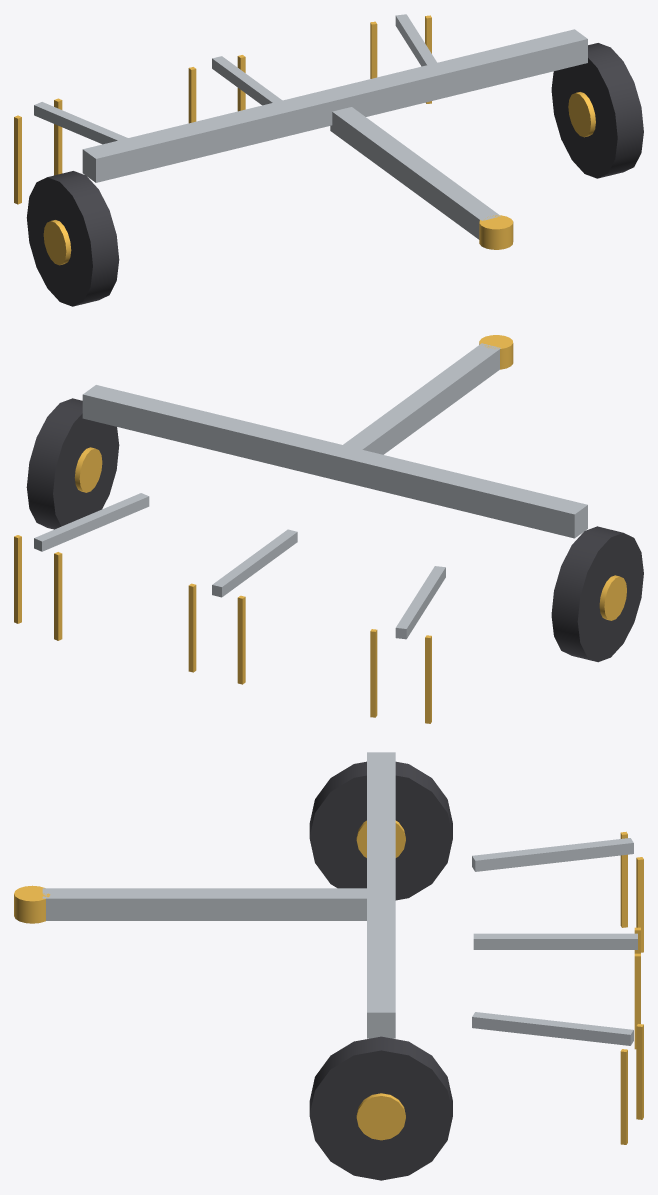
Rendered from m3_sample.glb.
3 views of the same model, one above another, from view 1: azimuth 30°, elevation 25°; view 2: azimuth 150°, elevation 25°; view 3: azimuth 270°, elevation 25° (orthographic). The views are drawn at different scales.
Visible parts, largest first — view 1: Beam, Tyre L, Tyre R, Drawbar, Arm 1 Bar, Arm 2 Bar, Hitch, Hub R, Hub L, Arm 3 Bar, Tine 1a, Tine 1b (+2 smaller); view 2: Beam, Tyre L, Tyre R, Drawbar, Arm 3 Bar, Arm 2 Bar, Arm 1 Bar, Hub L, Hub R, Tine 2b, Tine 2a, Tine 3a (+4 smaller); view 3: Tyre R, Tyre L, Drawbar, Beam, Arm 2 Bar, Arm 3 Bar, Arm 1 Bar, Hub R, Hitch, Tine 3a, Tine 3b, Tine 1b (+2 smaller).
Part boxes in pixels (x1=…): Beam: x1=82, y1=29, x2=587, y2=182; Tyre L: x1=26, y1=171, x2=119, y2=306; Tyre R: x1=551, y1=43, x2=643, y2=178; Drawbar: x1=330, y1=107, x2=500, y2=239; Arm 1 Bar: x1=34, y1=102, x2=127, y2=144; Arm 2 Bar: x1=212, y1=56, x2=282, y2=105; Hitch: x1=479, y1=215, x2=513, y2=249; Hub R: x1=568, y1=92, x2=595, y2=137; Hub L: x1=43, y1=220, x2=71, y2=265; Arm 3 Bar: x1=395, y1=14, x2=436, y2=66; Tine 1a: x1=14, y1=115, x2=21, y2=204; Tine 1b: x1=54, y1=98, x2=62, y2=175; Beam: x1=82, y1=385, x2=587, y2=538; Tyre L: x1=551, y1=526, x2=643, y2=662; Tyre R: x1=26, y1=398, x2=119, y2=529; Drawbar: x1=343, y1=343, x2=500, y2=454; Arm 3 Bar: x1=34, y1=493, x2=149, y2=551; Arm 2 Bar: x1=212, y1=529, x2=297, y2=597; Arm 1 Bar: x1=395, y1=566, x2=445, y2=639; Hub L: x1=599, y1=575, x2=626, y2=620; Hub R: x1=74, y1=447, x2=102, y2=492; Tine 2b: x1=188, y1=583, x2=196, y2=672; Tine 2a: x1=237, y1=595, x2=245, y2=684; Tine 3a: x1=54, y1=552, x2=62, y2=640; Tyre R: x1=309, y1=1036, x2=452, y2=1180; Tyre L: x1=309, y1=761, x2=452, y2=900; Drawbar: x1=42, y1=888, x2=366, y2=920; Beam: x1=367, y1=752, x2=395, y2=1038; Arm 2 Bar: x1=473, y1=933, x2=637, y2=949; Arm 3 Bar: x1=472, y1=1012, x2=633, y2=1045; Arm 1 Bar: x1=472, y1=838, x2=633, y2=871; Hub R: x1=356, y1=1093, x2=405, y2=1140; Hitch: x1=14, y1=885, x2=50, y2=923; Tine 3a: x1=636, y1=1024, x2=643, y2=1119; Tine 3b: x1=620, y1=1049, x2=627, y2=1144; Tine 1b: x1=636, y1=857, x2=643, y2=952.
Size of the model in its own units: 3.42 by 0.82 by 3.07.
